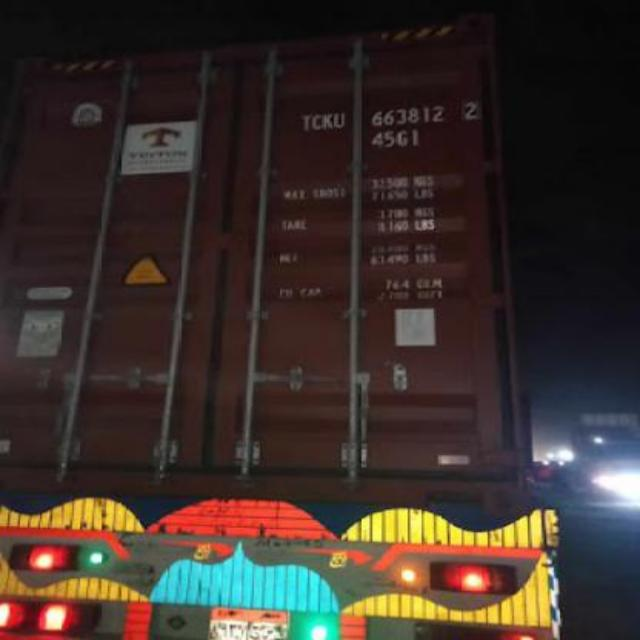1: (422, 104, 430, 126)
2: (460, 98, 484, 122), (432, 104, 444, 125)
3: (395, 108, 407, 126)
6: (371, 110, 383, 128), (384, 110, 394, 128)
8: (408, 106, 418, 125)
C: (310, 111, 324, 131)
K: (321, 113, 333, 131)
T: (300, 114, 312, 132)
U: (332, 108, 346, 130)
